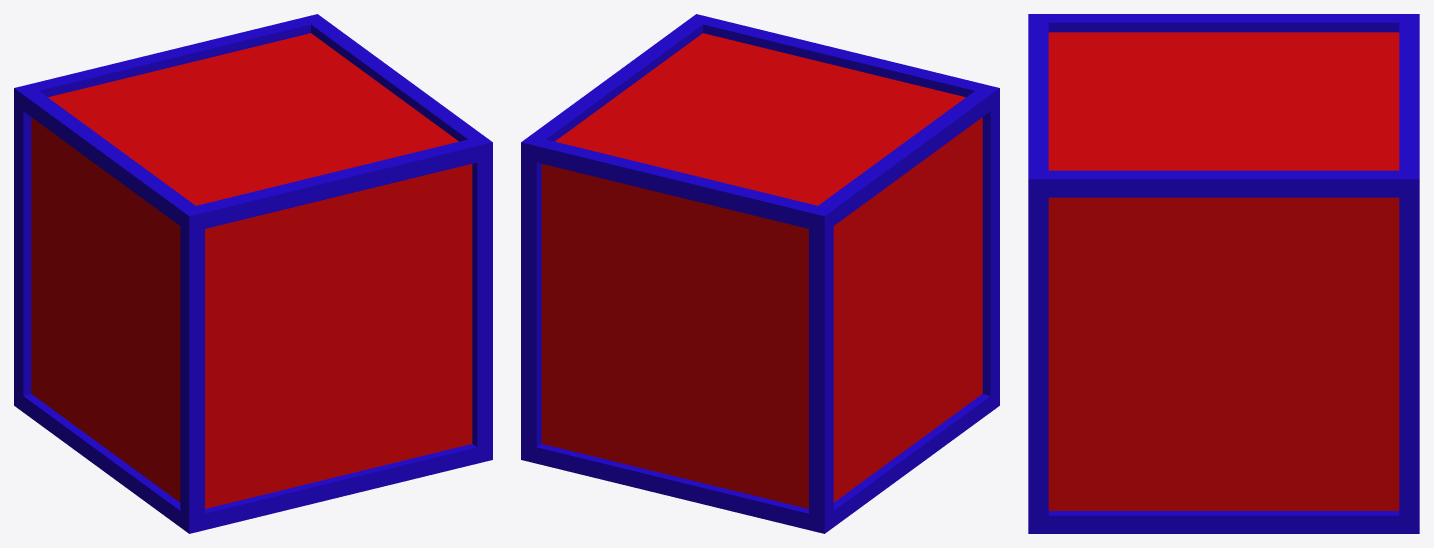
File: uploads_files_5783387_cratesquare.fbx
3 views of the same model, side by side, from view 1: azimuth 30°, elevation 25°; view 2: azimuth 150°, elevation 25°; view 3: azimuth 270°, elevation 25° (orthographic). The views are drawn at different scales.
Parts seen in each view (by area): view 1: low; view 2: low; view 3: low.
Boxes of the visible parts, x1,y1,x2,y2 form: low: (14, 14, 492, 533); low: (521, 14, 999, 533); low: (1028, 14, 1419, 533).
Size of the model in its own units: 200 by 200 by 200.
